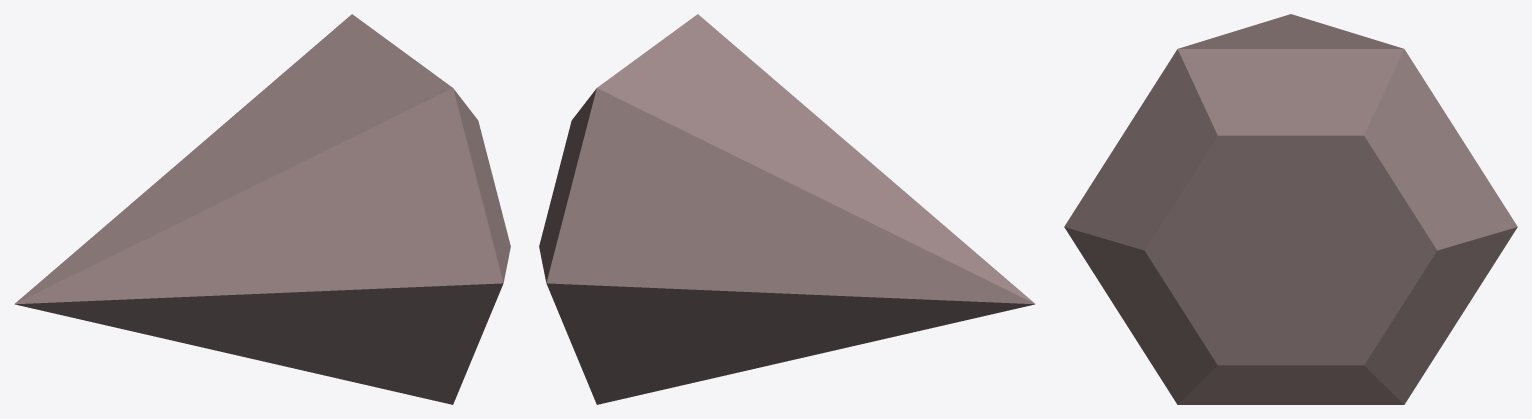
File: Drill.gltf
The picture shows the model from 3 angles, left to right: view 1: azimuth 30°, elevation 25°; view 2: azimuth 150°, elevation 25°; view 3: azimuth 270°, elevation 25°; orthographic projection. The views are drawn at different scales.
Parts seen in each view (by area): view 1: Cone; view 2: Cone; view 3: Cone.
Boxes of the visible parts, left/top/right/bottom form: Cone: left=14, top=14, right=510, bottom=404; Cone: left=539, top=14, right=1035, bottom=404; Cone: left=1064, top=14, right=1517, bottom=404.
Size of the model in its own units: 1 by 0.7018 by 0.8104.
